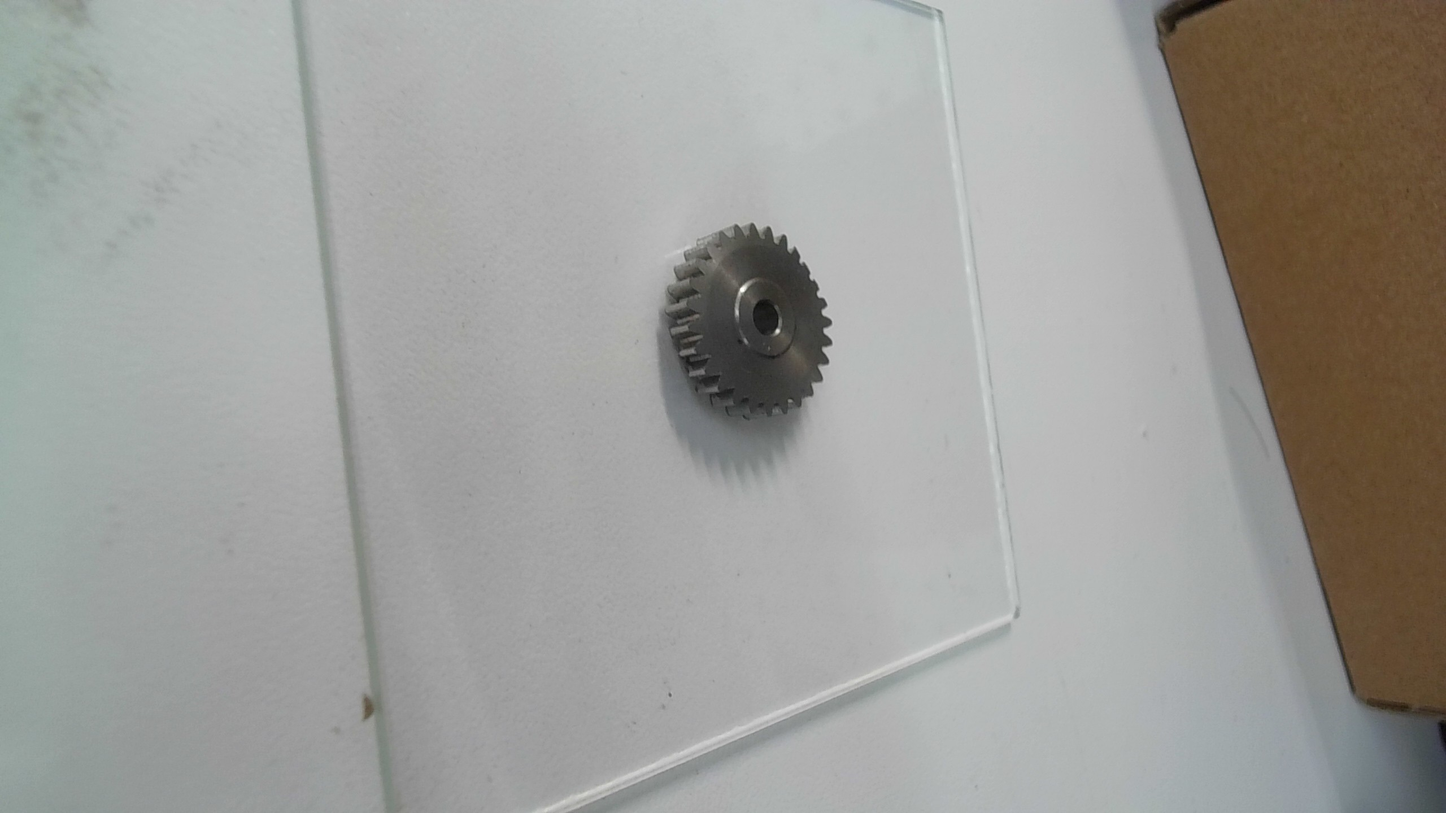gear: (665, 216, 838, 414)
